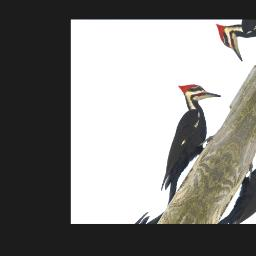Woodpecker: (126, 69, 233, 199)
